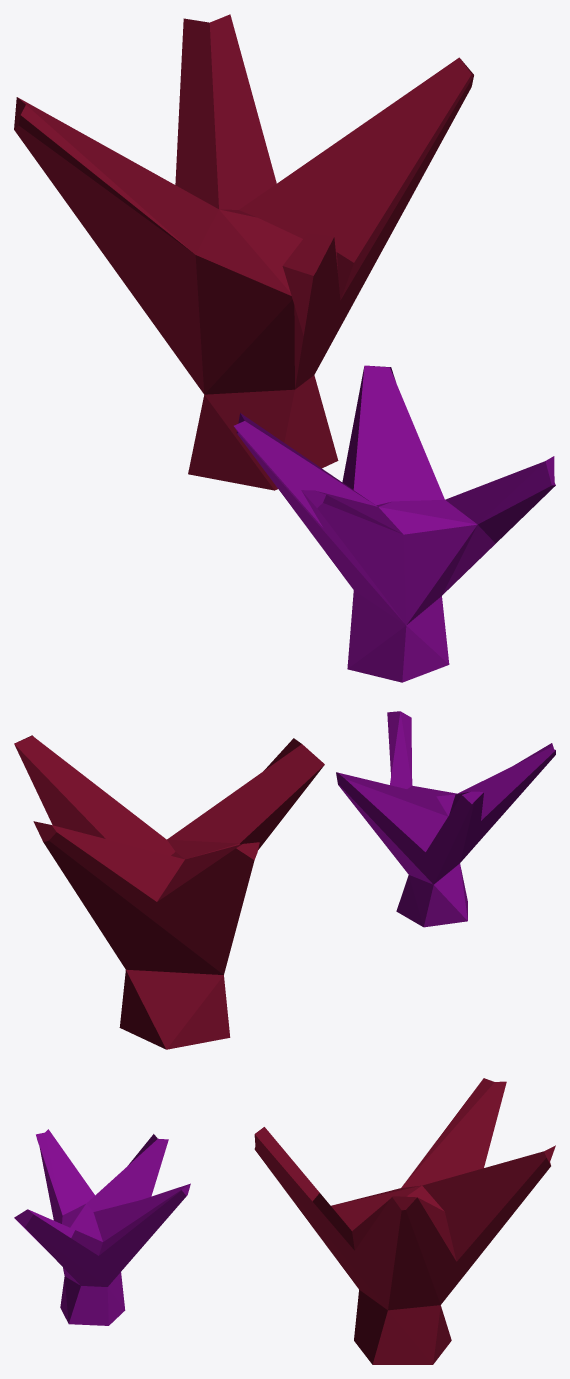
Rendered from Coral1MED.glb.
3 views of the same model, one above another, from view 1: azimuth 30°, elevation 25°; view 2: azimuth 150°, elevation 25°; view 3: azimuth 270°, elevation 25° (orthographic). The views are drawn at different scales.
Visible parts, largest first — view 1: Icosphere, Icosphere.003; view 2: Icosphere, Icosphere.003; view 3: Icosphere, Icosphere.003.
Part boxes in pixels (left/top/right/bottom): Icosphere: left=14, top=14, right=473, bottom=490; Icosphere.003: left=234, top=365, right=555, bottom=682; Icosphere: left=14, top=735, right=324, bottom=1049; Icosphere.003: left=336, top=711, right=555, bottom=927; Icosphere: left=254, top=1078, right=555, bottom=1364; Icosphere.003: left=14, top=1129, right=190, bottom=1325.
Size of the model in its own units: 2.64 by 1.92 by 4.35.
